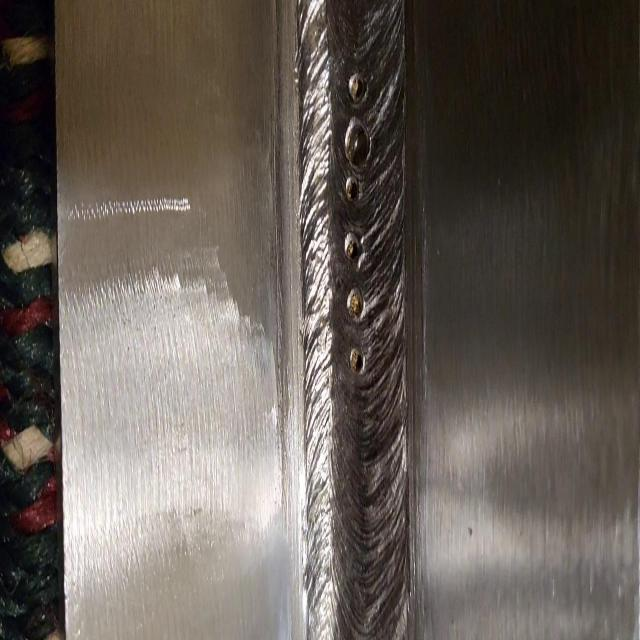Welding Line: (302, 2, 404, 640)
Workpiece: (62, 2, 640, 640)
porosity: (344, 72, 370, 375)
